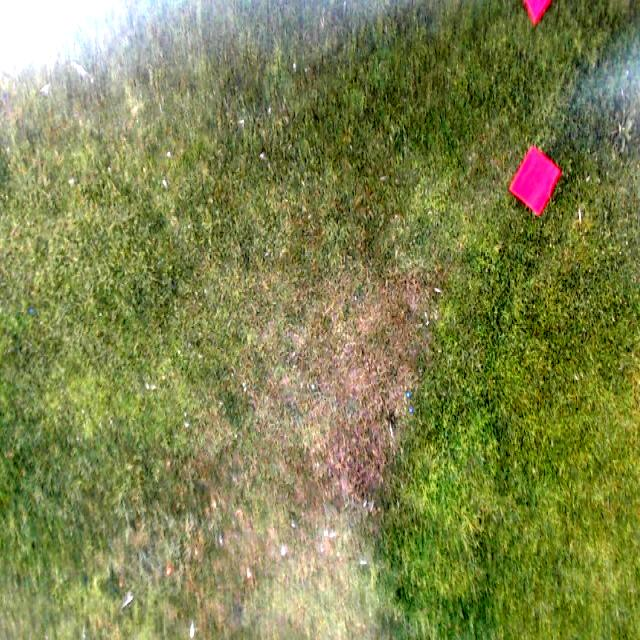red_square: (508, 146, 560, 216)
